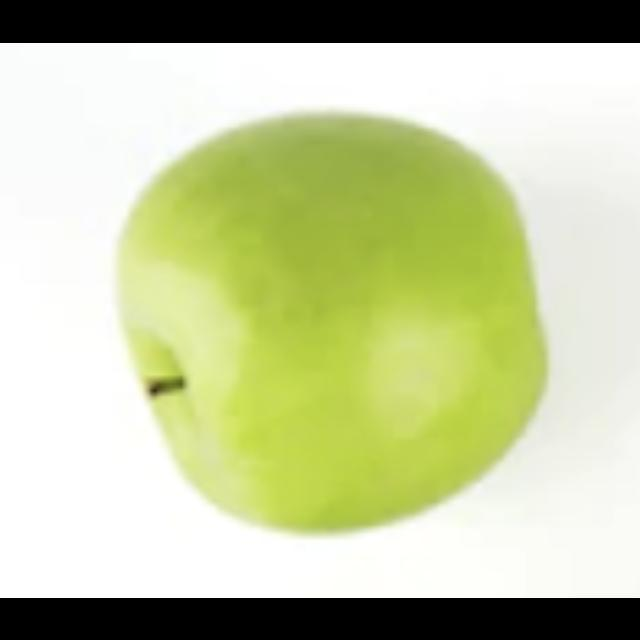Apel Segar: (109, 116, 551, 527)
